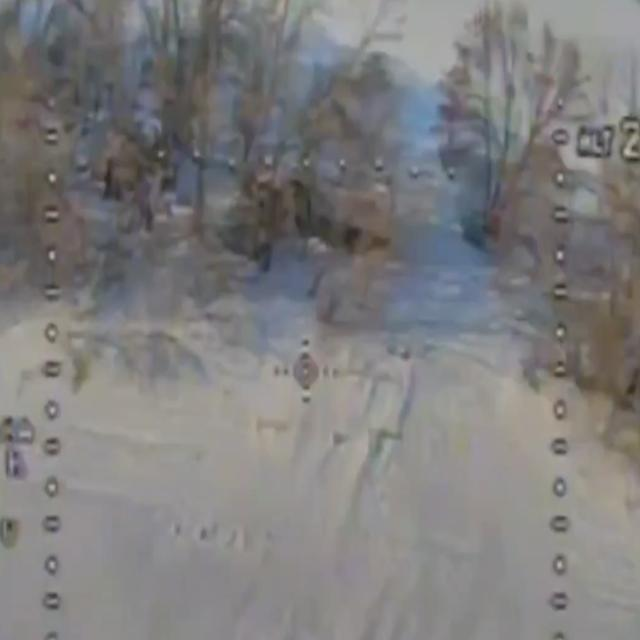vehicle: (245, 160, 392, 262)
